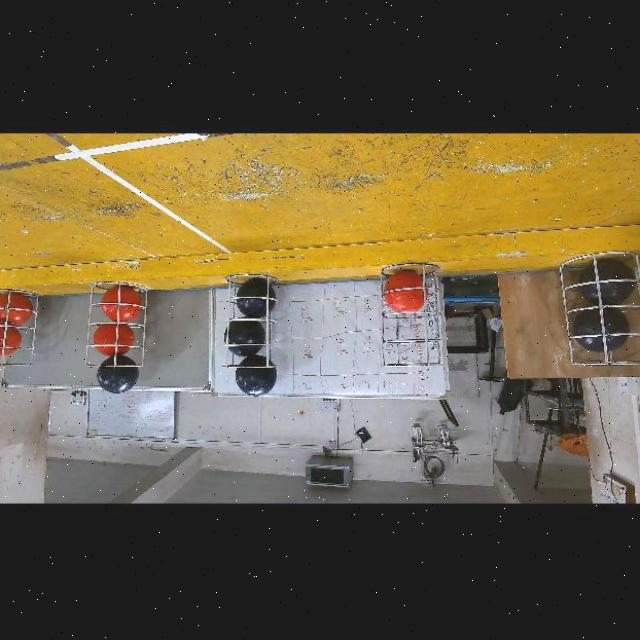P: (576, 258, 634, 307), (571, 309, 630, 354), (235, 355, 278, 398), (235, 278, 277, 319), (96, 355, 139, 394), (224, 321, 266, 358)
R: (383, 270, 423, 313), (100, 286, 141, 322), (94, 324, 135, 357), (0, 294, 32, 326), (0, 327, 22, 358)
S: (562, 255, 640, 377), (77, 280, 146, 378), (380, 271, 444, 374), (218, 277, 284, 373), (0, 286, 42, 372)
